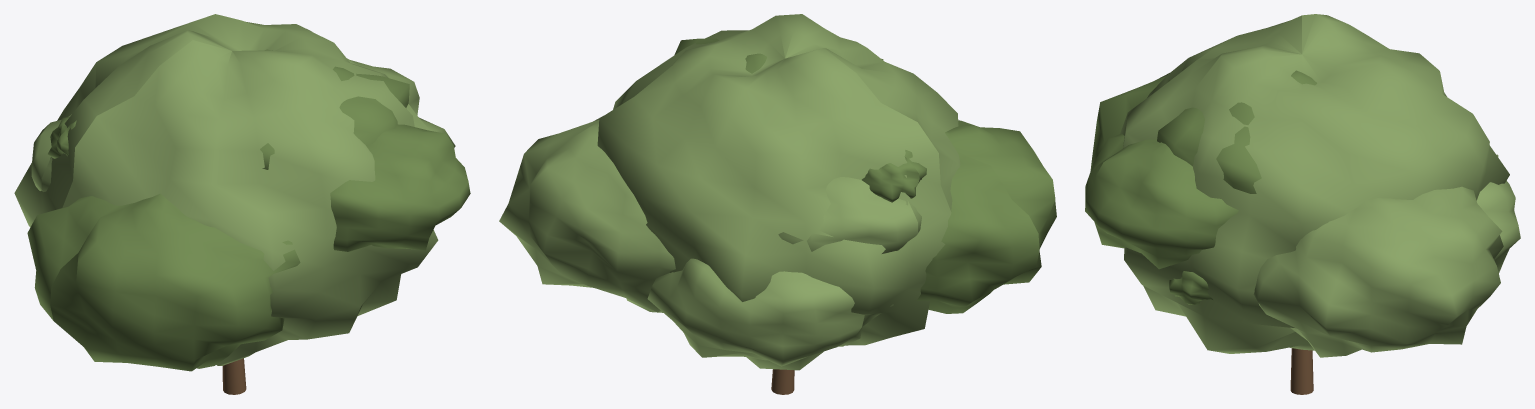
Rendered from acer-buergerianum.glb.
3 renders of one model, left to right at view 1: azimuth 30°, elevation 25°; view 2: azimuth 150°, elevation 25°; view 3: azimuth 270°, elevation 25°, orthographic. The views are drawn at different scales.
Parts seen in each view (by area): view 1: korona-1, korona-2, korona-6, korona-4, korona-7, korona-3, torzs, folt-3; view 2: korona-1, korona-3, korona-2, korona-5, korona-7, folt-3, korona-4, torzs; view 3: korona-1, korona-3, korona-6, korona-4, korona-5, korona-2, torzs, folt-1.
Boxes of the visible parts, x1,y1,x2,y2 form: korona-1: [14, 14, 438, 365]; korona-2: [27, 193, 300, 371]; korona-6: [330, 124, 470, 251]; korona-4: [260, 49, 409, 169]; korona-7: [31, 114, 71, 191]; korona-3: [347, 58, 455, 147]; torzs: [222, 358, 246, 394]; folt-3: [48, 117, 76, 158]; korona-1: [597, 14, 960, 370]; korona-3: [499, 116, 675, 312]; korona-2: [916, 120, 1056, 313]; korona-5: [647, 258, 893, 366]; korona-7: [778, 177, 921, 253]; folt-3: [862, 150, 926, 202]; korona-4: [674, 38, 883, 73]; torzs: [771, 369, 794, 394]; korona-1: [1120, 14, 1509, 353]; korona-3: [1253, 186, 1503, 357]; korona-6: [1085, 133, 1238, 269]; korona-4: [1157, 70, 1316, 193]; korona-5: [1476, 154, 1520, 273]; korona-2: [1090, 73, 1169, 171]; torzs: [1290, 348, 1313, 394]; folt-1: [1169, 271, 1213, 305].
Size of the model in its own units: 9.44 by 7.17 by 7.91.
